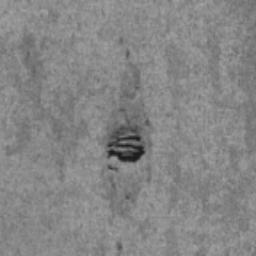Secondary rust skin: (107, 49, 151, 219)
